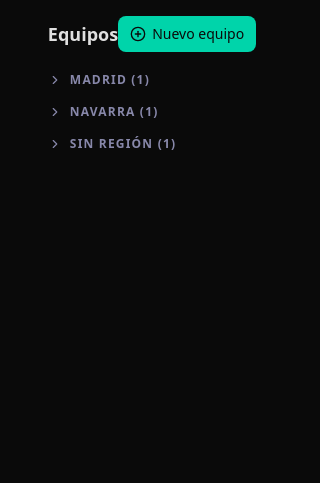
Scenario: AdminEquiposPage › create button enables after name and region are filled
Click the button "Nuevo equipo": click(187, 34) [118,16,256,52]
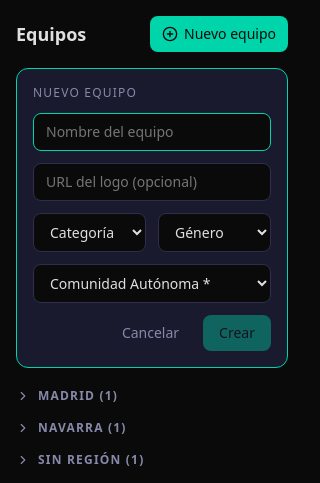
In the field with placeholder "Nombre del equipo": (152, 132) [33,113,271,151], type "Nuevo Club"
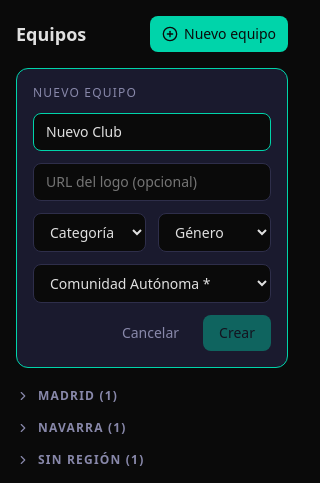
Select "Valencia" in the 3rd dropdown showing "Comunidad Autónoma *": (152, 284) [33,264,271,303]
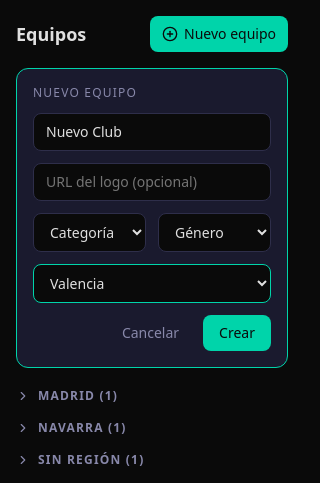
Expected: the button "Crear" is enabled, [203,315,271,351]
